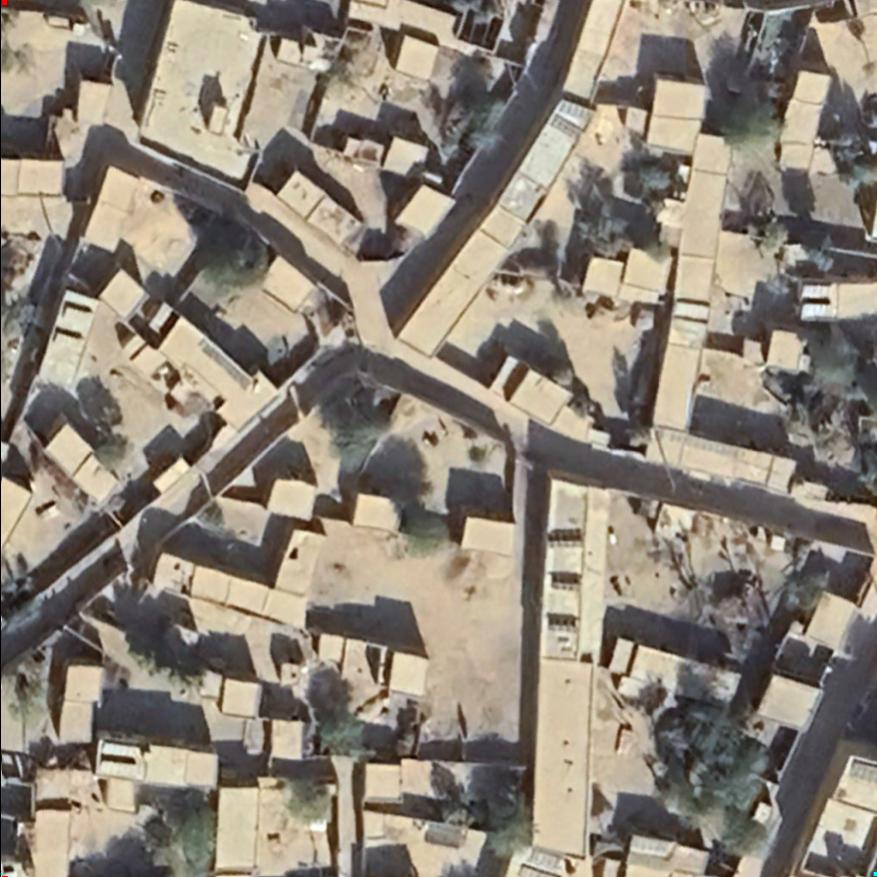Solarpanel: (555, 89, 602, 127), (544, 108, 584, 146)
